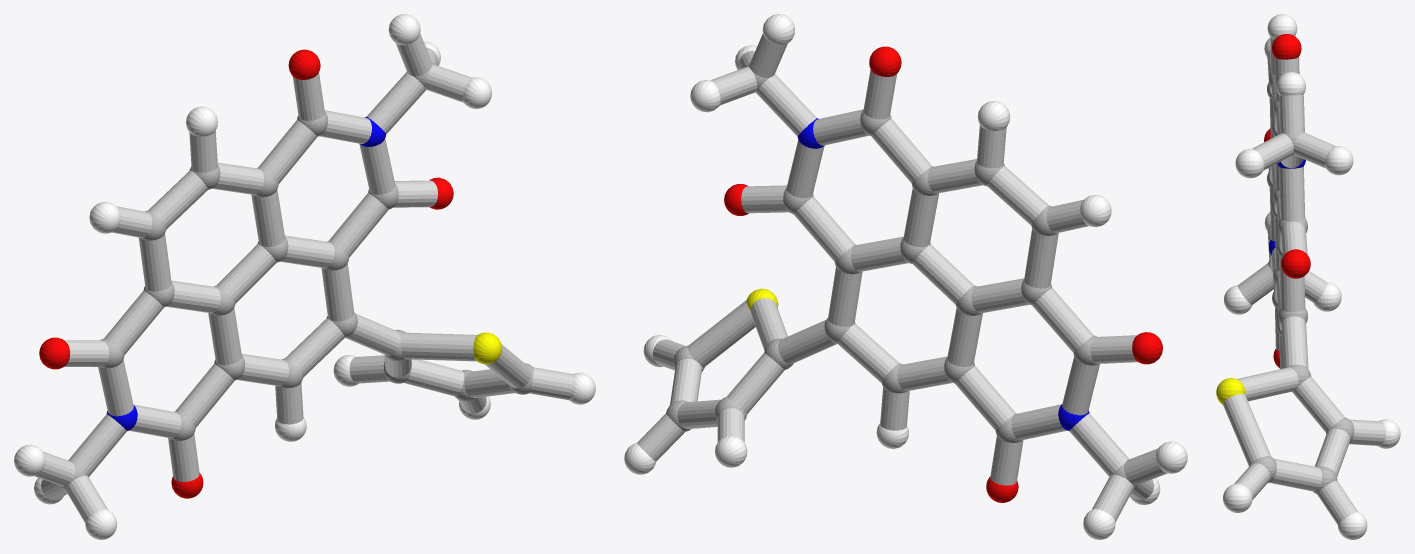
Rendered from Dimethyl_Naphthalene_Dicarboximide_Phi_0_Theta_240_Thiophene.glb.
3 renders of one model, left to right at view 1: azimuth 30°, elevation 25°; view 2: azimuth 150°, elevation 25°; view 3: azimuth 270°, elevation 25°, orthographic. The views are drawn at different scales.
Visible parts, largest first — view 1: grp14119, grp7241, grp1, grp12309, grp13757, grp11585; view 2: grp14119, grp7241, grp1, grp12309, grp11585; view 3: grp14119, grp7241, grp1, grp12309, grp13757.
Part boxes in pixels (x1,y1,x2,y2): grp14119: (34,34,573,522); grp7241: (14,14,595,539); grp1: (60,62,533,489); grp12309: (39,49,453,498); grp13757: (473,332,502,364); grp11585: (106,116,385,430); grp14119: (637,33,1167,521); grp7241: (624,14,1187,539); grp1: (666,63,1138,488); grp12309: (724,46,1162,502); grp11585: (797,118,1089,430); grp14119: (1223,37,1385,524); grp7241: (1223,14,1400,539); grp1: (1249,72,1354,493); grp12309: (1264,34,1310,368); grp13757: (1216,378,1245,404).
Bounding box in the file's own units: 12 × 9.35 × 3.73.
